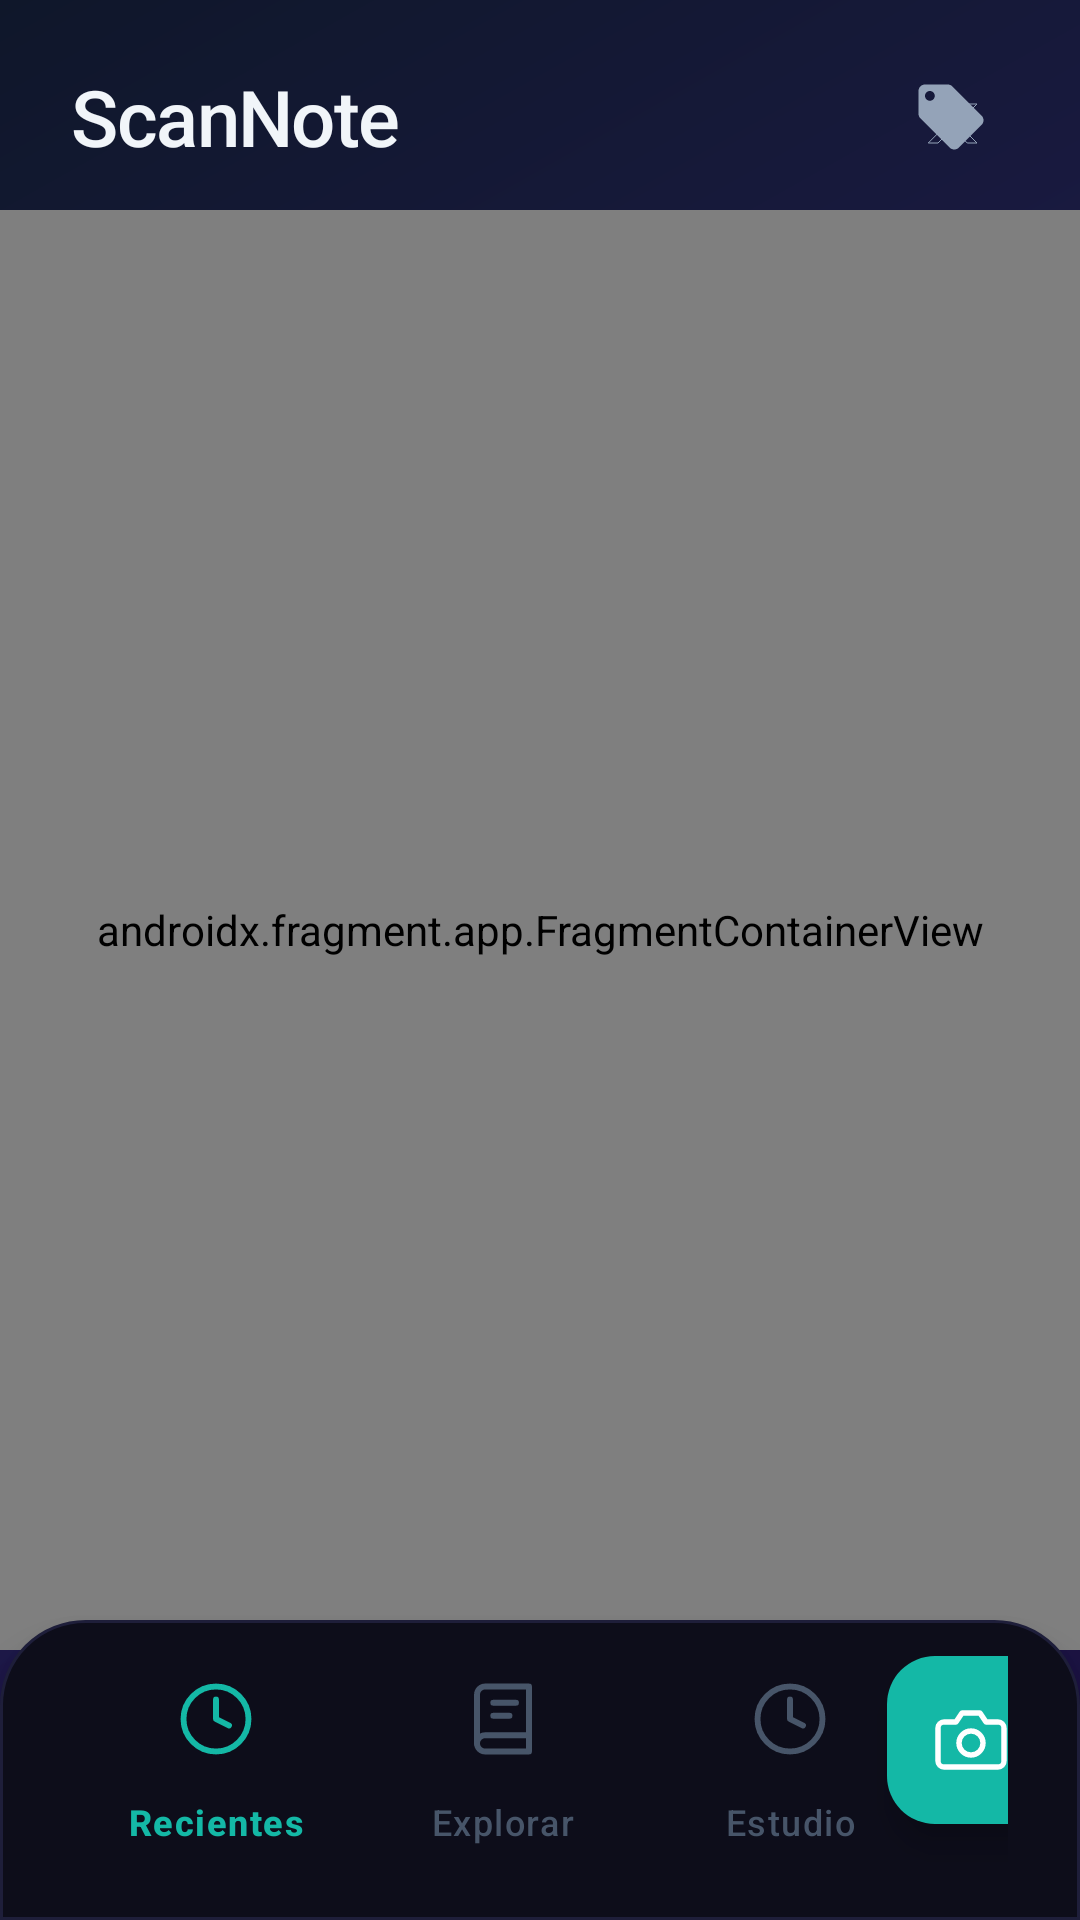

Icons on this 1080 x 1920 Android screen, each with its box as BBox(x1, y1, x2, y2):
Escanear: BBox(887, 1656, 1008, 1824)
